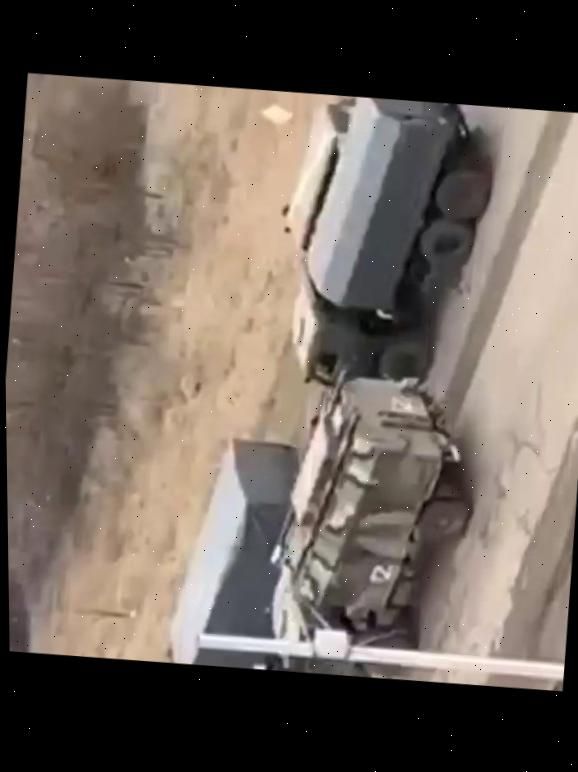truck: (260, 366, 482, 686), (281, 90, 500, 410), (151, 422, 323, 674)
